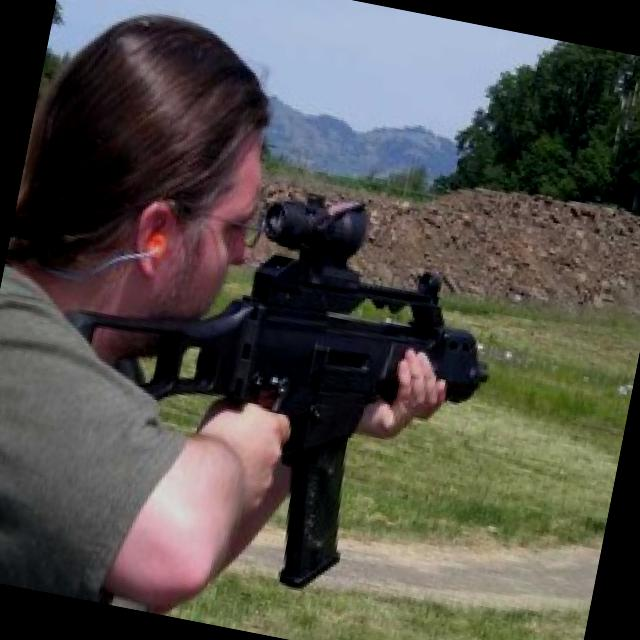long weapon: (42, 176, 540, 620)
